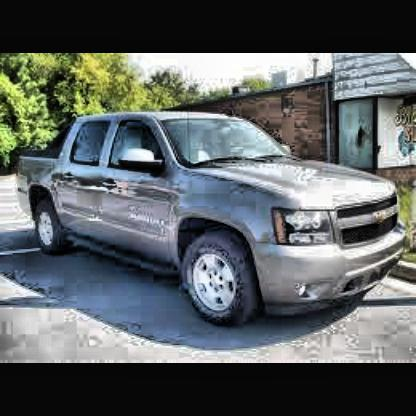Chevrolet Avalanche Crew Cab 2012: (18, 109, 410, 329)
